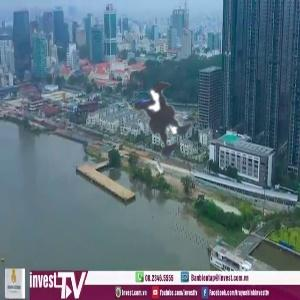drone: (90, 48, 235, 193)
